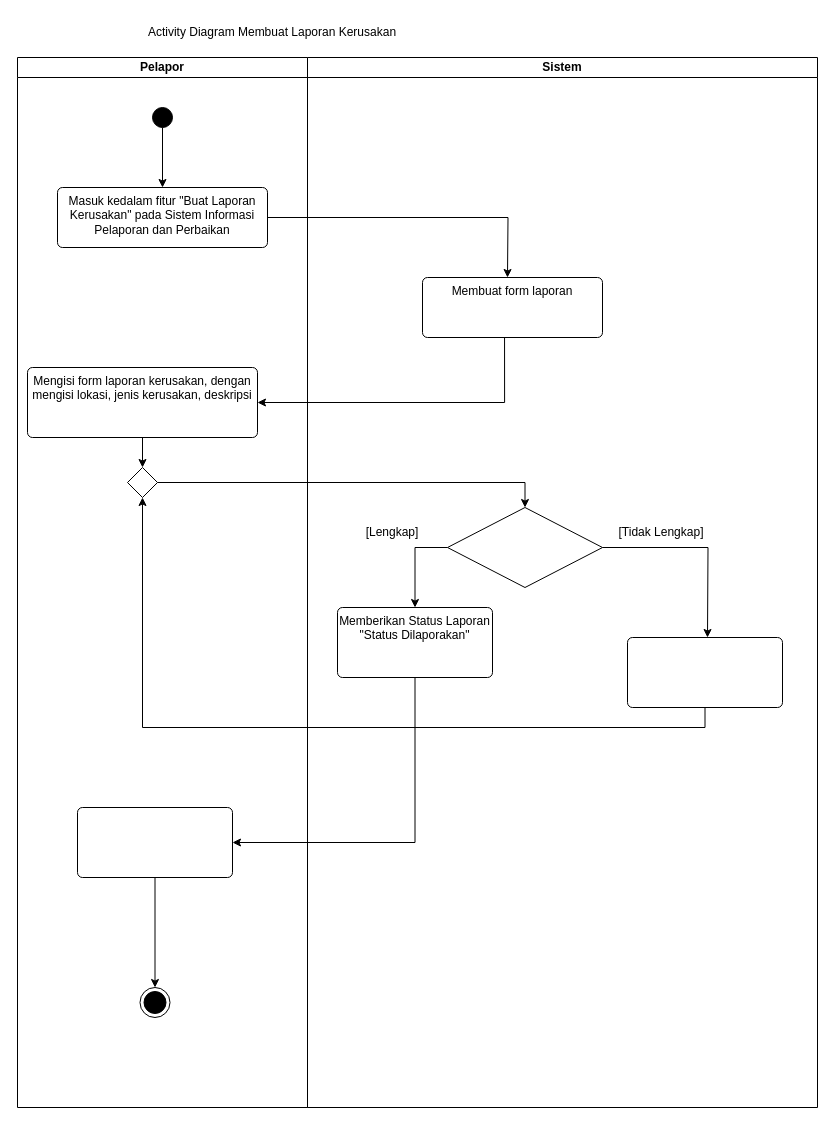
Image size: 835x1125. Some labels were removed from this diagram. Here are the shapes that lost their labels. From the top down, the box of each, then its label:
(446, 506, 602, 588): Periksa Kelengkapan Laporan
(626, 636, 782, 708): Memberikan Status Laporan "Status Tidak Dilaporkan"
(76, 806, 232, 878): Melihat Status Laporan
